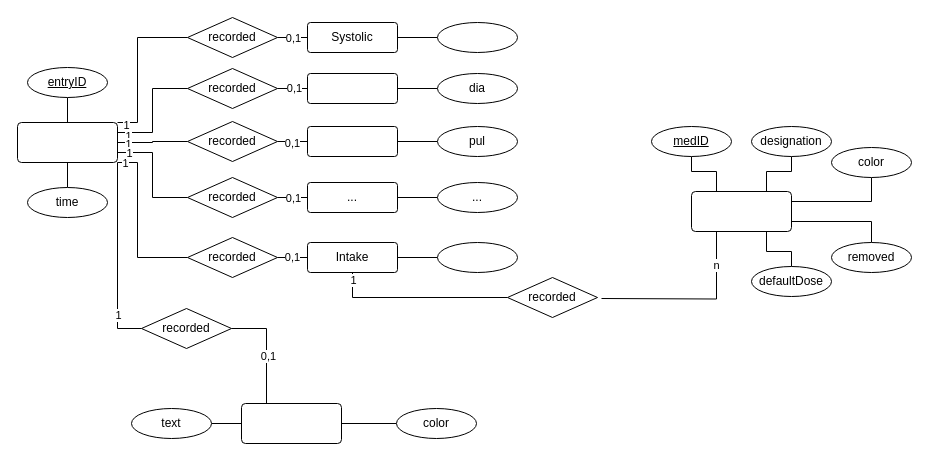
Some shapes in this 929 by 461 pixel diagram are drawn without their labels. Each missing label, with the centre of its shape:
"Diastolic" belongs at point (352, 88).
"dosis" belongs at point (477, 257).
"Medicine" belongs at point (741, 211).
"Note" belongs at point (291, 423).
"Pulse" belongs at point (352, 141).
"sys" belongs at point (477, 37).
"Timestamps" belongs at point (67, 142).
